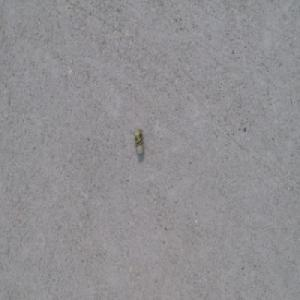BoltNutSet: (133, 128, 143, 155)
